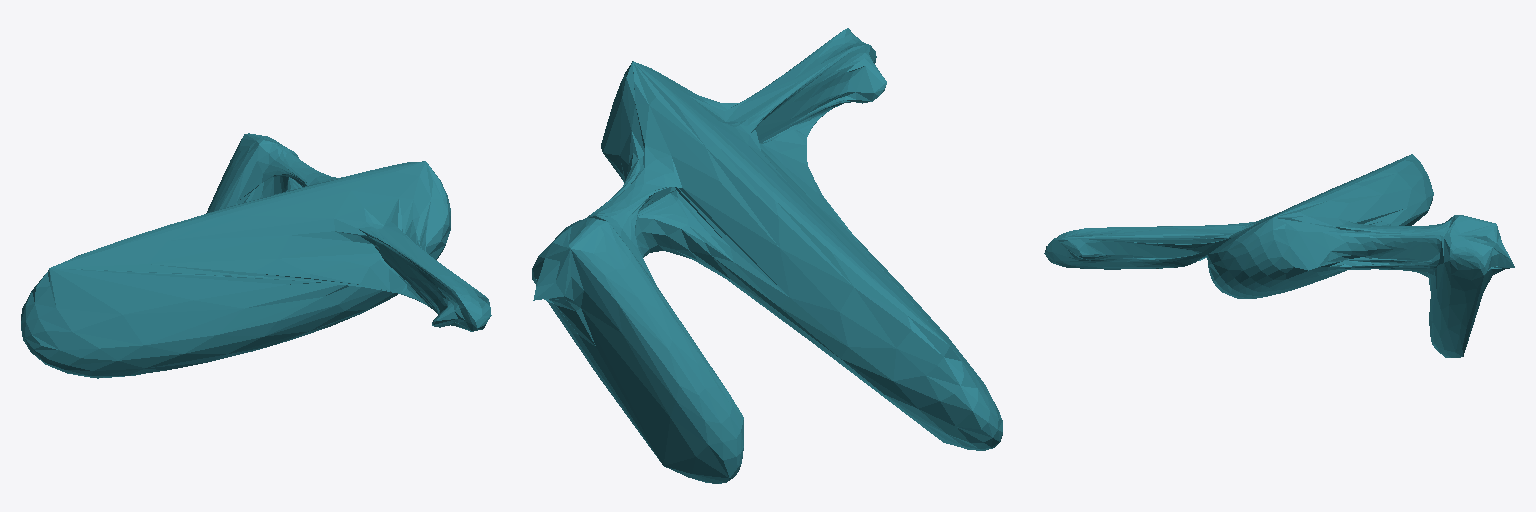
The robot description file, URDF, robot "blob372":

<robot name="blob372">
  <link name="random_obj_372">
    <contact>
      <lateral_friction value="1.0"/>
      <rolling_friction value="0.0"/>
      <inertia_scaling value="3.0"/>
      <contact_cfm value="0.0"/>
      <contact_erp value="1.0"/>
    </contact>
    <inertial>
      <origin rpy="0 0 0" xyz="0 0 0"/>
      <mass value="0.1062"/>
      <inertia ixx="1" ixy="0" ixz="0" iyy="1" iyz="0" izz="0"/>
    </inertial>
    <visual>
      <origin rpy="0 0 0" xyz="0 0 0"/>
      <geometry>
        <mesh filename="372.obj" scale="0.0095 0.0095 0.0095"/>
      </geometry>
      <material name="blockmat">
        <color rgba="0.25 0.56 0.61 1"/>
      </material>
    </visual>
    <collision>
      <origin rpy="0 0 0" xyz="0 0 0"/>
      <geometry>
        <mesh filename="372_coll.obj" scale="0.0095 0.0095 0.0095"/>
      </geometry>
    </collision>
  </link>
</robot>

--- Facts derived from the render (not from the file) ---
Views: 3 orthographic renders of the robot side by side, from view 1: azimuth 30°, elevation 25°; view 2: azimuth 150°, elevation 25°; view 3: azimuth 270°, elevation 25°.
Robot: blob372 — 1 links, 0 joints (none); root link random_obj_372; default pose: every joint at zero.
Visible links, largest first — view 1: random_obj_372; view 2: random_obj_372; view 3: random_obj_372.
Link boxes in pixels (bbox=[...]): random_obj_372: bbox=[21, 133, 491, 378]; random_obj_372: bbox=[532, 28, 1002, 483]; random_obj_372: bbox=[1044, 154, 1514, 357].
Bounding box of the posed robot: 0.0966 × 0.1147 × 0.056 m (x, y, z).
Meshes: 1 distinct files referenced, 1 mesh visuals loaded (1 OBJ).
